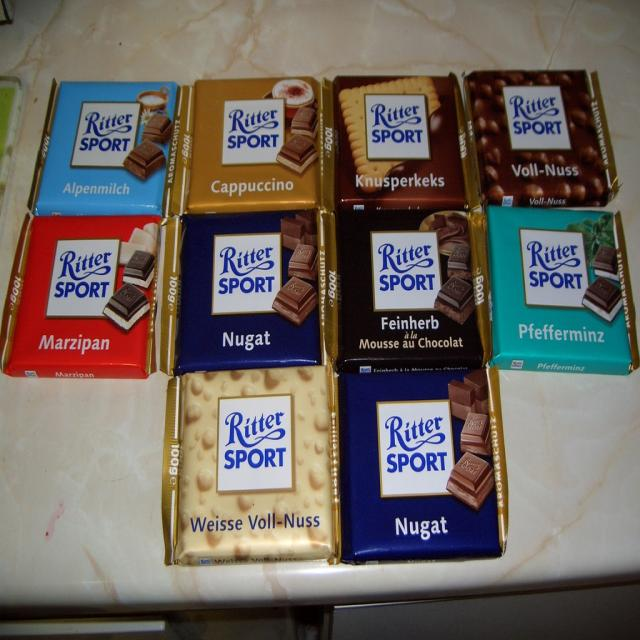rittersport: (377, 400, 461, 501), (217, 395, 296, 494), (213, 228, 288, 316), (44, 238, 123, 320), (369, 231, 448, 313), (518, 225, 595, 309), (72, 99, 142, 171), (365, 90, 434, 162), (503, 85, 573, 152), (223, 99, 286, 165)
